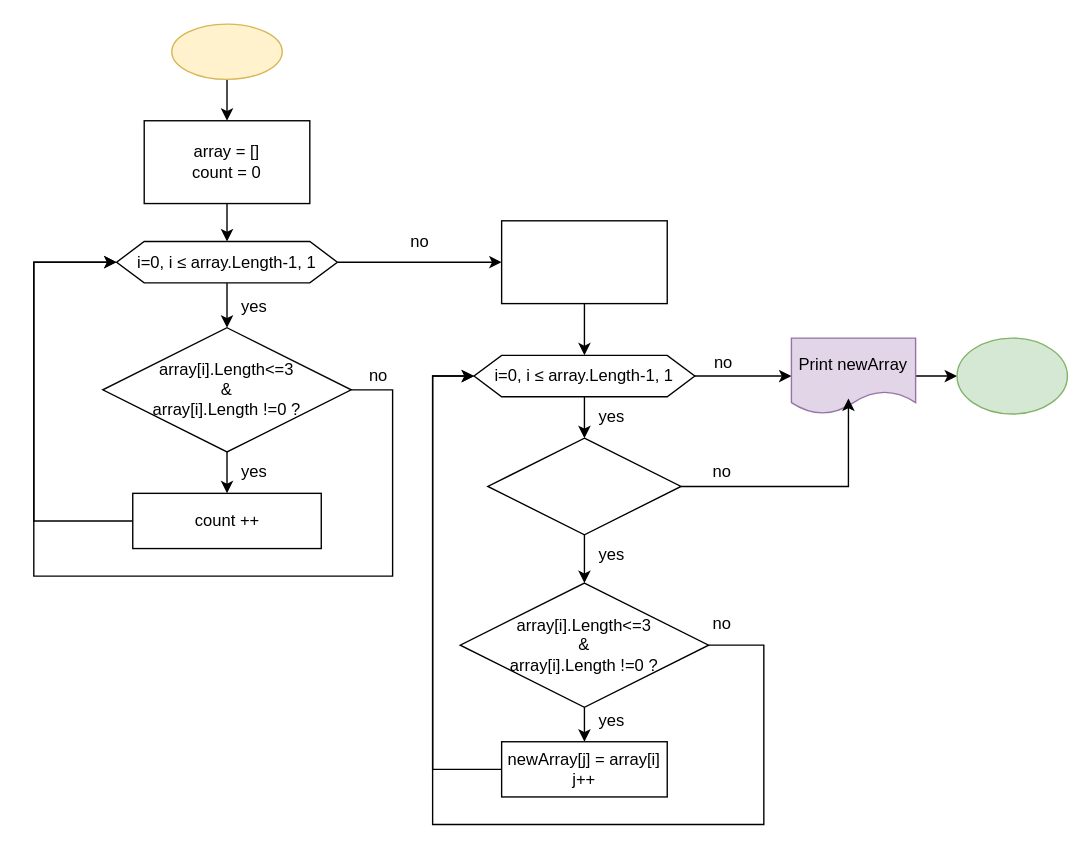
Some shapes in this 1092 by 860 pixel diagram are drawn without their labels. The shapes that lost their labels are listed below. From the top down, each one's centre as x and y in pixels, then its label:
[226,51]: Start
[583,261]: newArray = [] size = count j = 0
[1011,375]: Finish
[583,486]: j≤ newArray.Length-1?
